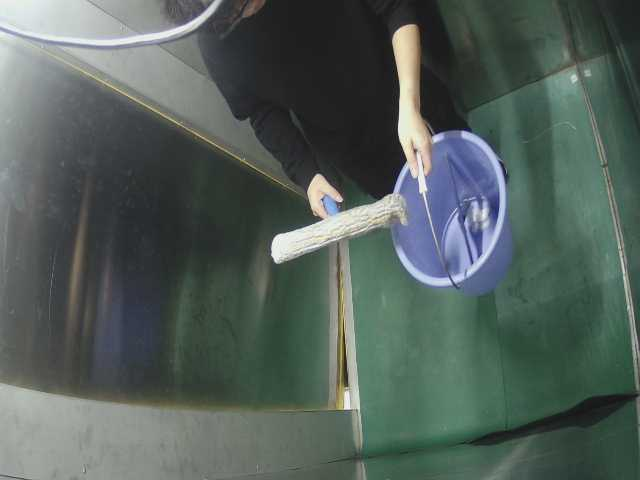bucket: (375, 127, 519, 303)
person: (179, 1, 518, 179)
